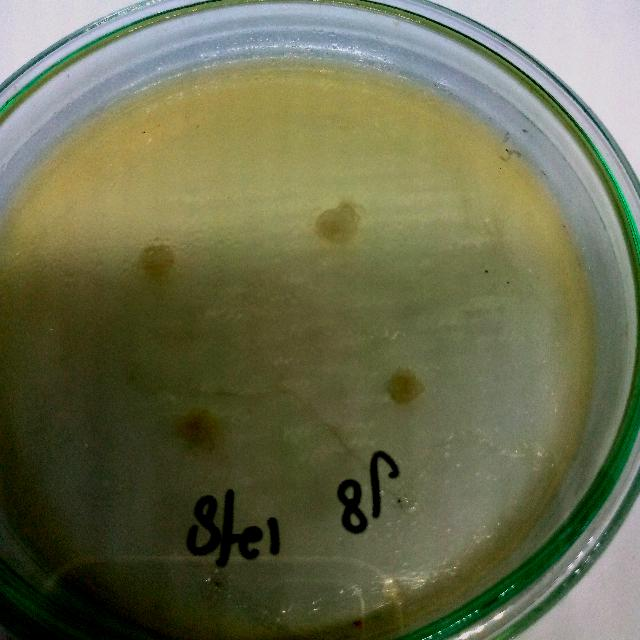colony: (309, 193, 365, 250), (173, 403, 224, 453), (132, 236, 180, 286), (382, 363, 430, 412)
